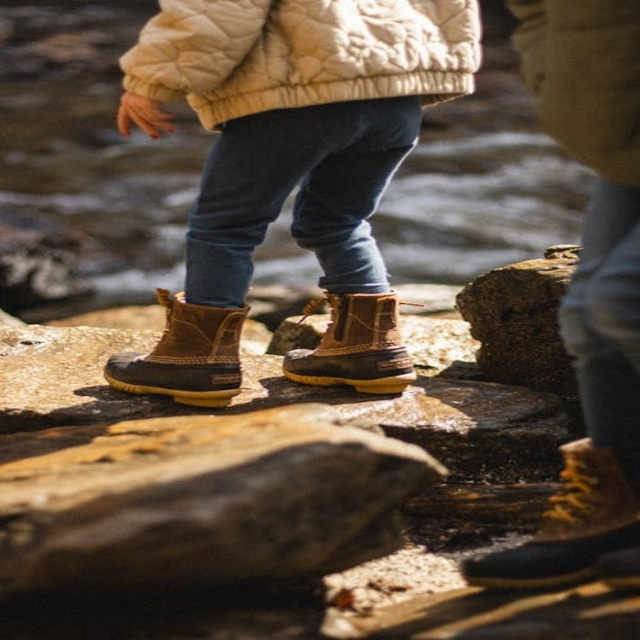Sin_guantes: (115, 91, 177, 140)
